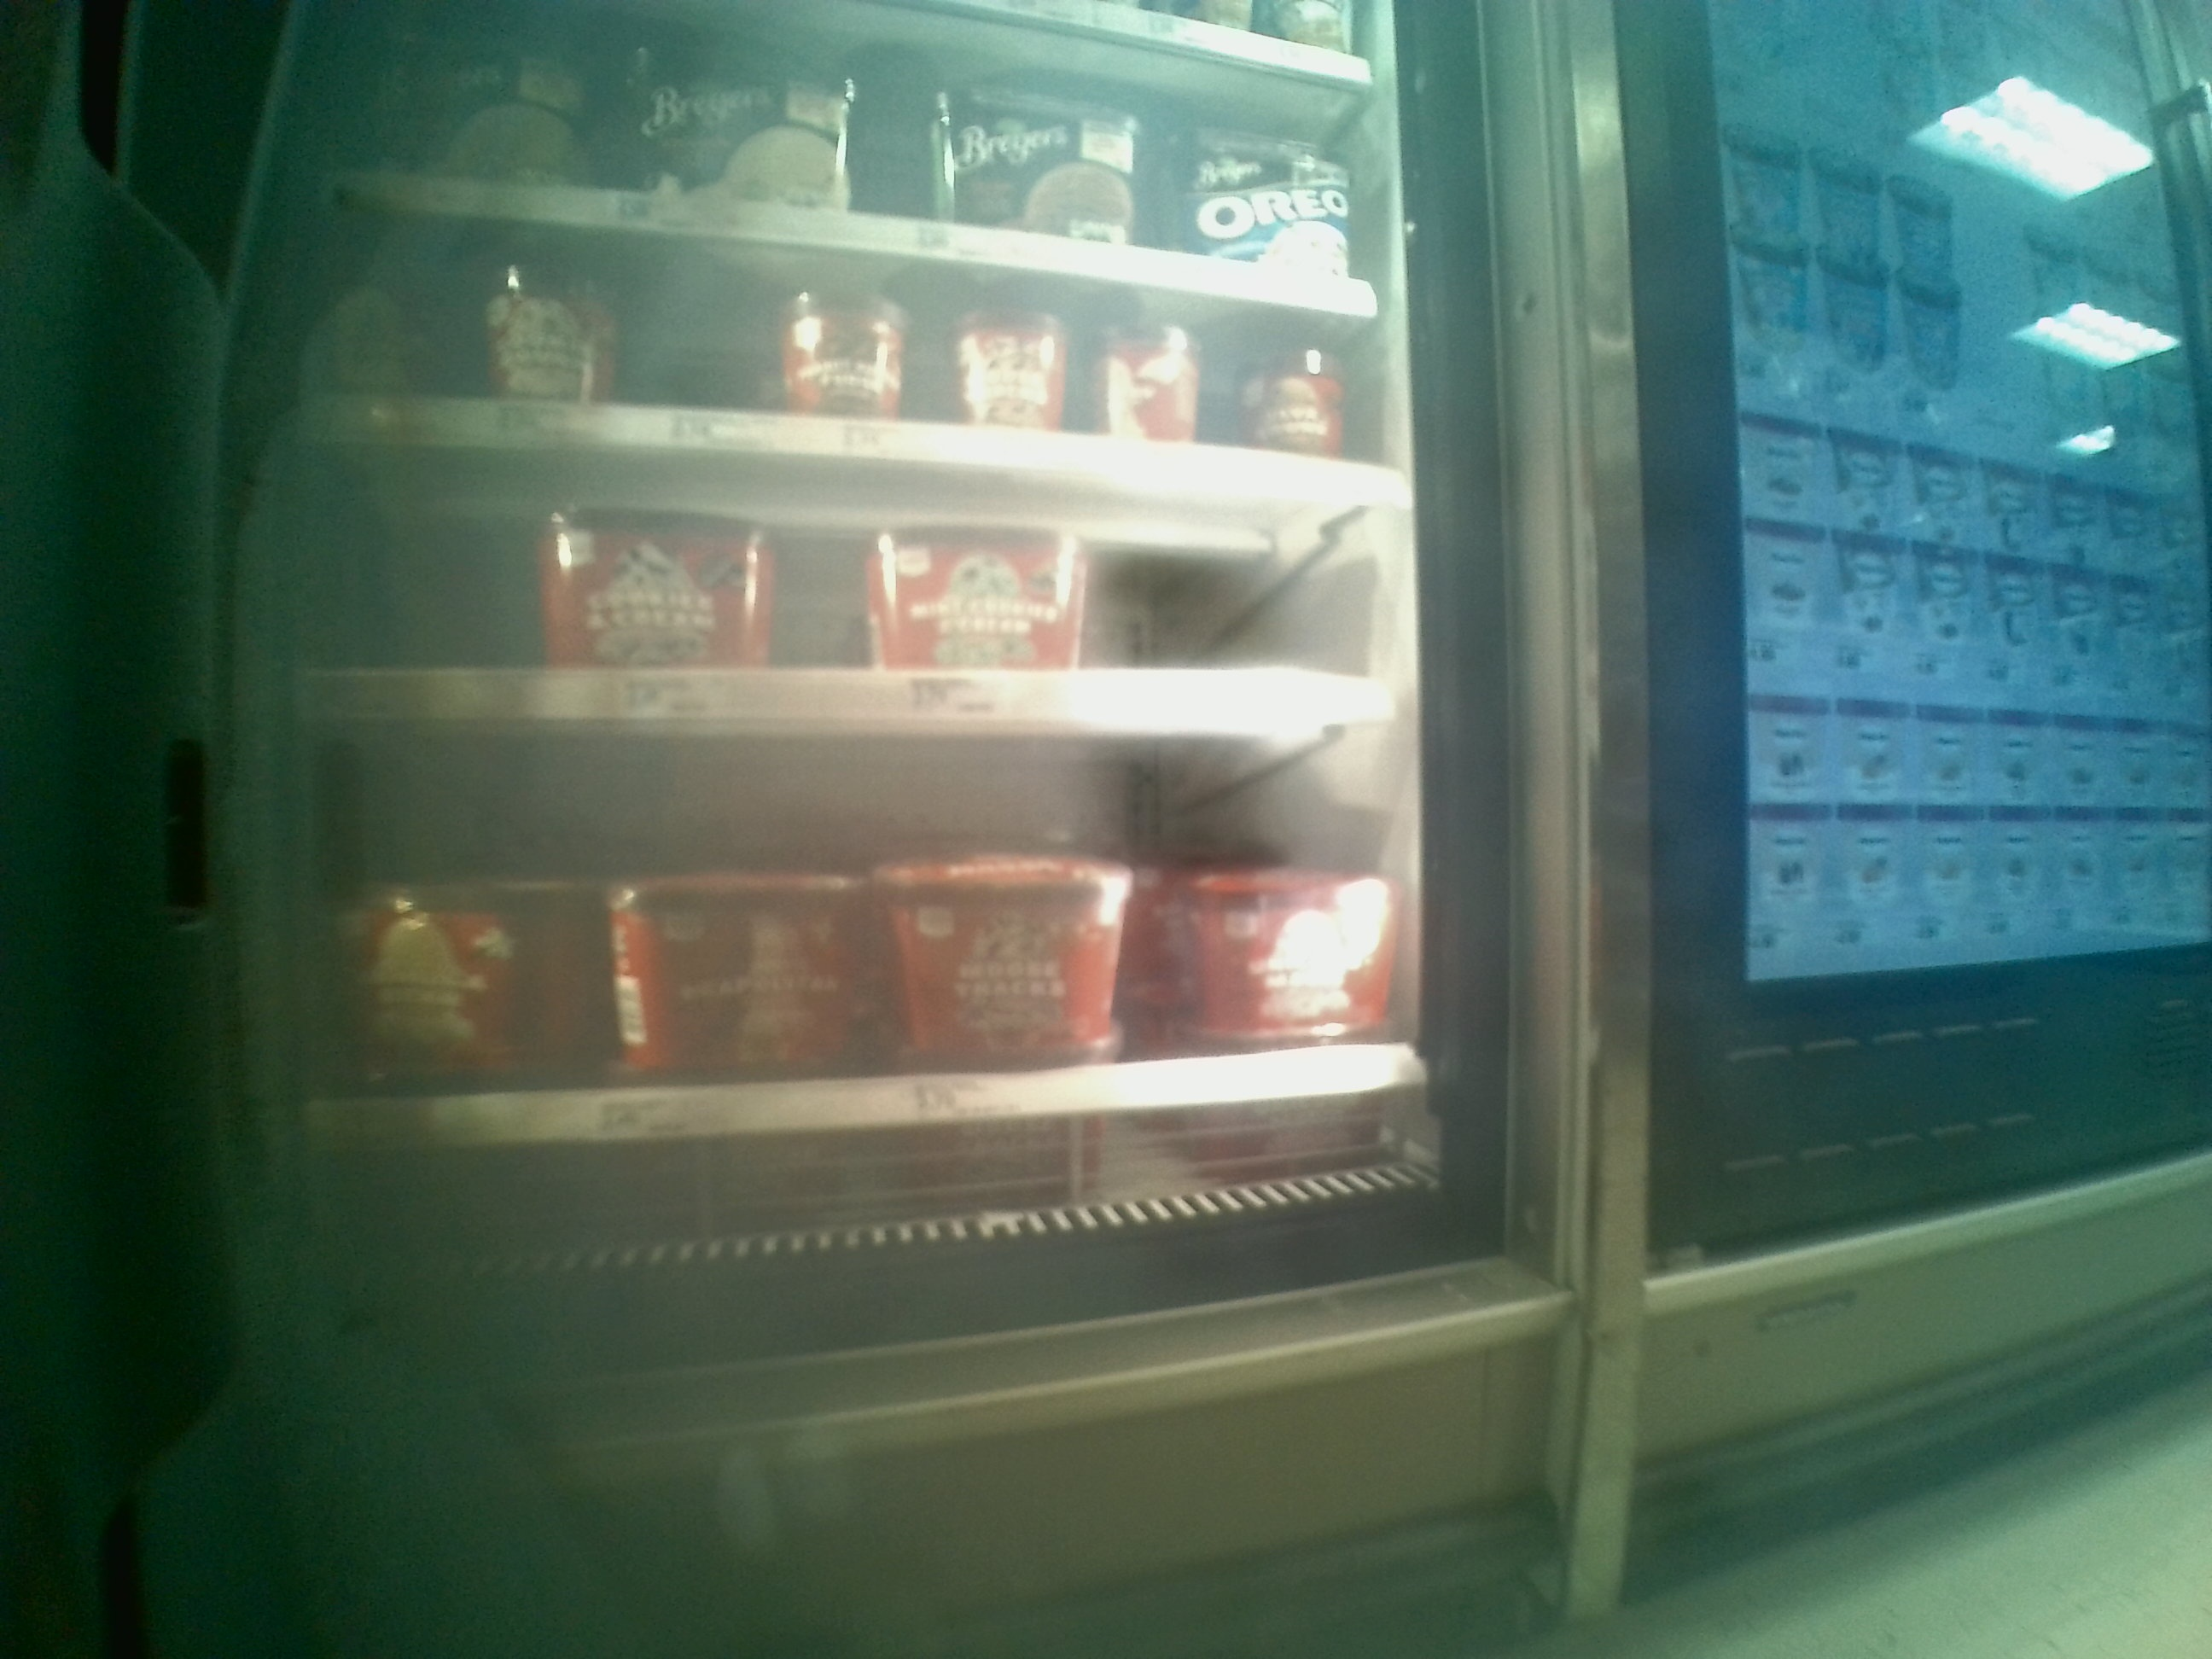shelf: (308, 734, 1440, 1215), (320, 207, 1411, 507), (310, 448, 1416, 727)
